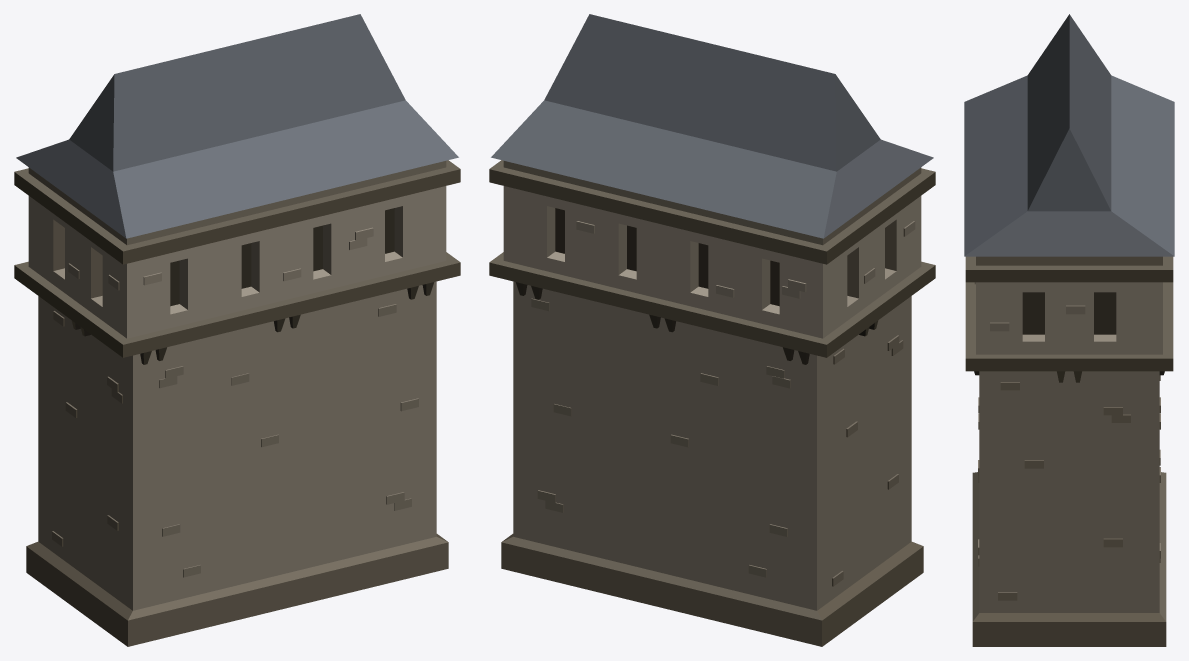
Rendered from SF_Bld_Castle_Keep_01.fbx.
3 views of the same model, side by side, from view 1: azimuth 30°, elevation 25°; view 2: azimuth 150°, elevation 25°; view 3: azimuth 270°, elevation 25° (orthographic). The views are drawn at different scales.
Visible parts, largest first — view 1: SF_Bld_Castle_Keep_01; view 2: SF_Bld_Castle_Keep_01; view 3: SF_Bld_Castle_Keep_01.
Boxes of the visible parts, x1,y1,x2,y2 form: SF_Bld_Castle_Keep_01: (14, 14, 460, 646); SF_Bld_Castle_Keep_01: (489, 14, 935, 646); SF_Bld_Castle_Keep_01: (964, 14, 1174, 646).
Bounding box in the file's own units: 23.87 × 35.58 × 13.55.
